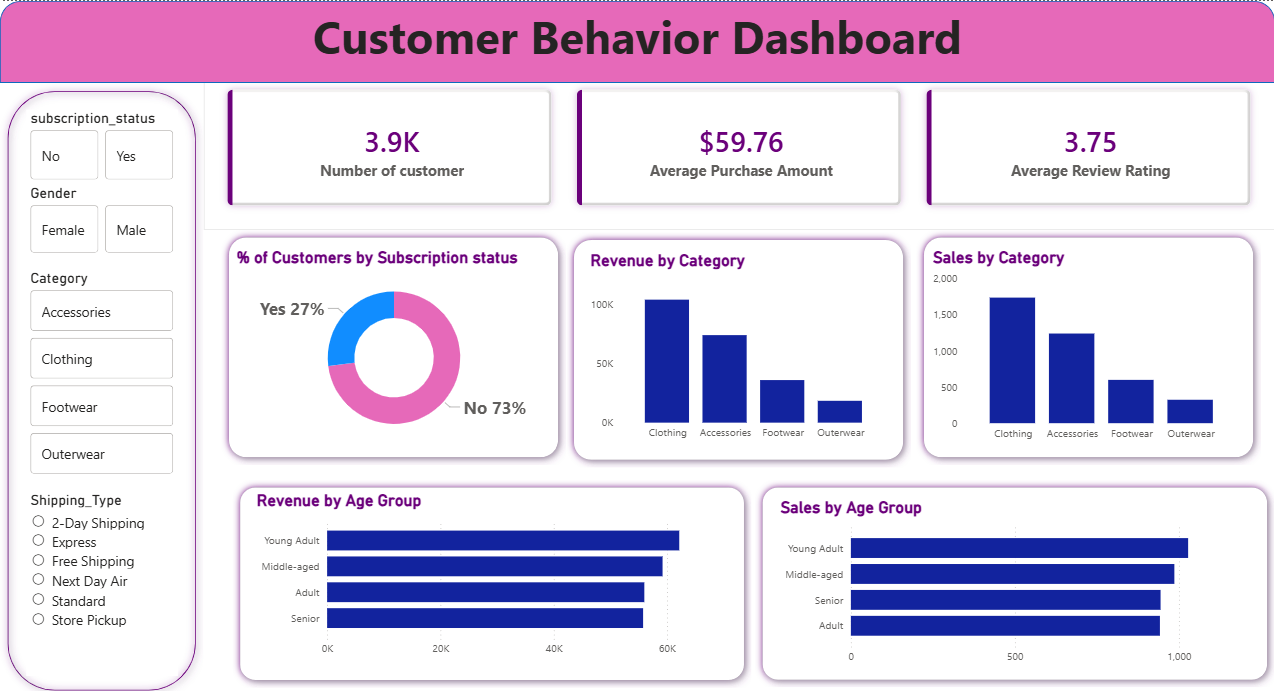

Layout of this report page (visuals, bound fields, positions):
{"tool":"powerbi","page":{"name":"Page 1","canvas":[1500,820],"ordinal":0},"visuals":[{"type":"cardVisual","fields":{"Data":["public customer.Number of customer","public customer.Average Purchase Amount","public customer.Average Review Rating"]},"box":[239.3,76.8,1260.7,192.9],"z":0},{"type":"shape","box":[0,0,1500,96.4],"z":1000},{"type":"textbox","box":[0,0,1500,96.4],"z":2000},{"type":"shape","box":[260.7,269.6,405.4,276.8],"z":3000},{"type":"donutChart","title":"% of Customers by Subscription status","fields":{"Category":["public customer.subscription_status"],"Y":["CountNonNull(public customer.customer_id)"]},"box":[273.2,291.1,380.4,235.7],"z":4000},{"type":"shape","box":[0,96.4,239.3,723.2],"z":5000},{"type":"advancedSlicerVisual","fields":{"Values":["public customer.subscription_status"]},"box":[30.4,128.6,178.6,87.5],"z":6000},{"type":"advancedSlicerVisual","fields":{"Values":["public customer.gender"]},"box":[30.4,216.1,178.6,85.7],"z":7000},{"type":"advancedSlicerVisual","fields":{"Values":["public customer.category"]},"box":[30.4,316.1,178.6,246.4],"z":8000},{"type":"listSlicer","fields":{"Values":["public customer.shipping_type"]},"box":[30.4,576.8,178.6,217.9],"z":9000},{"type":"clusteredBarChart","fields":{"Y":["Sum(public customer.purchase_amount)"],"Category":["public customer.age_group"]},"box":[296.4,576.8,573.2,217.9],"z":10000},{"type":"shape","box":[666.1,271.4,405.4,276.8],"z":11000},{"type":"shape","box":[1078.6,269.6,405.4,276.8],"z":12000},{"type":"clusteredColumnChart","title":"Revenue by Category","fields":{"Y":["Sum(public customer.purchase_amount)"],"Category":["public customer.category"]},"box":[689.3,294.6,358.9,232.1],"z":13000},{"type":"clusteredColumnChart","title":"Sales by Category","fields":{"Y":["CountNonNull(public customer.customer_id)"],"Category":["public customer.category"]},"box":[1092.9,291.1,369.6,235.7],"z":14000},{"type":"shape","box":[273.2,562.5,610.7,244.6],"z":15000},{"type":"clusteredBarChart","title":"Revenue by  Age Group","fields":{"Y":["Sum(public customer.purchase_amount)"],"Category":["public customer.age_group"]},"box":[296.4,576.8,569.6,203.6],"z":16000},{"type":"shape","box":[888.5,563.5,611.5,244.2],"z":17000},{"type":"clusteredBarChart","title":"Sales by Age Group","fields":{"Category":["public customer.age_group"],"Y":["CountNonNull(public customer.customer_id)"]},"box":[913.5,584.6,571.2,203.8],"z":18000}]}

Visuals, with their boxes in screenshot pixels (x1, y1, x2, y2), scaled from the page's 1500x820 canvas onto the 1274x691 screenshot:
cardVisual - public customer.Number of customer x public customer.Average Purchase Amount: x1=203 y1=65 x2=1273 y2=227
shape: x1=0 y1=0 x2=1273 y2=81
textbox: x1=0 y1=0 x2=1273 y2=81
shape: x1=221 y1=227 x2=566 y2=460
"% of Customers by Subscription status" donutChart: x1=232 y1=245 x2=555 y2=444
shape: x1=0 y1=81 x2=203 y2=690
advancedSlicerVisual - public customer.subscription_status: x1=26 y1=108 x2=178 y2=182
advancedSlicerVisual - public customer.gender: x1=26 y1=182 x2=178 y2=254
advancedSlicerVisual - public customer.category: x1=26 y1=266 x2=178 y2=474
listSlicer - public customer.shipping_type: x1=26 y1=486 x2=178 y2=670
clusteredBarChart - Sum(public customer.purchase_amount) x public customer.age_group: x1=252 y1=486 x2=739 y2=670
shape: x1=566 y1=229 x2=910 y2=462
shape: x1=916 y1=227 x2=1260 y2=460
"Revenue by Category" clusteredColumnChart: x1=585 y1=248 x2=890 y2=444
"Sales by Category" clusteredColumnChart: x1=928 y1=245 x2=1242 y2=444
shape: x1=232 y1=474 x2=751 y2=680
"Revenue by  Age Group" clusteredBarChart: x1=252 y1=486 x2=736 y2=658
shape: x1=755 y1=475 x2=1273 y2=681
"Sales by Age Group" clusteredBarChart: x1=776 y1=493 x2=1261 y2=664
